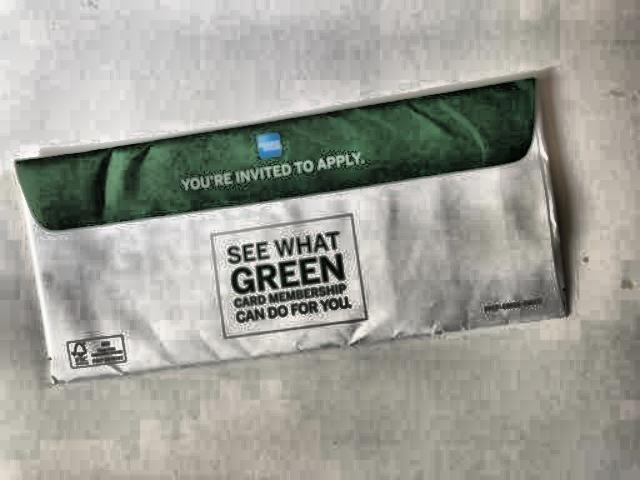Paper: (0, 52, 580, 384)
